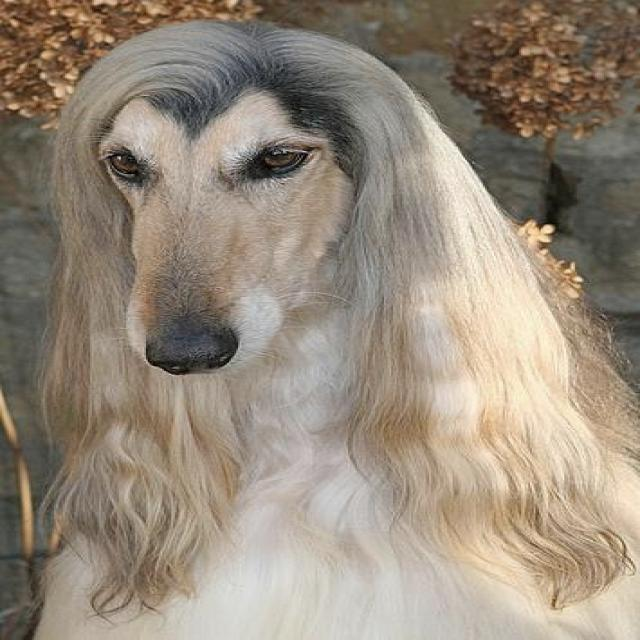afghan_hound: (41, 20, 634, 638)
